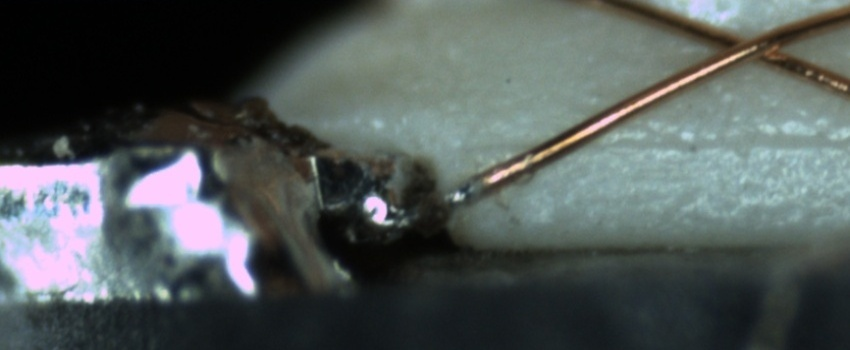CL: (688, 17, 810, 75)
DL: (475, 111, 849, 180)
TS: (389, 176, 482, 238)
